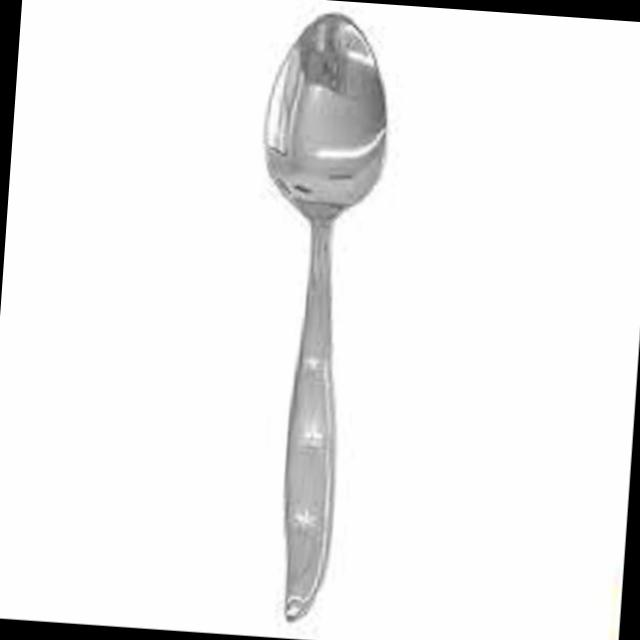spoon: (222, 2, 410, 628)
